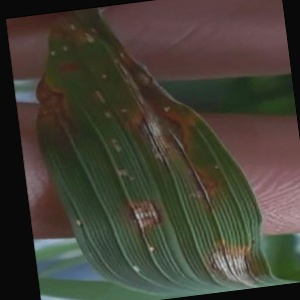Brown_Spot: (110, 80, 186, 172), (31, 77, 91, 142), (195, 239, 264, 293), (123, 189, 173, 238), (181, 168, 223, 212)
